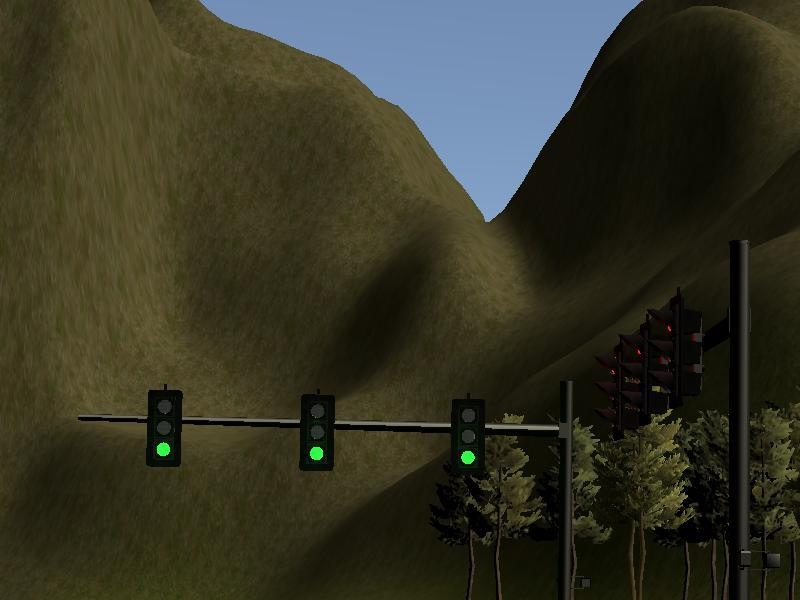Green: (148, 390, 182, 465), (452, 401, 485, 472), (303, 394, 334, 469)
